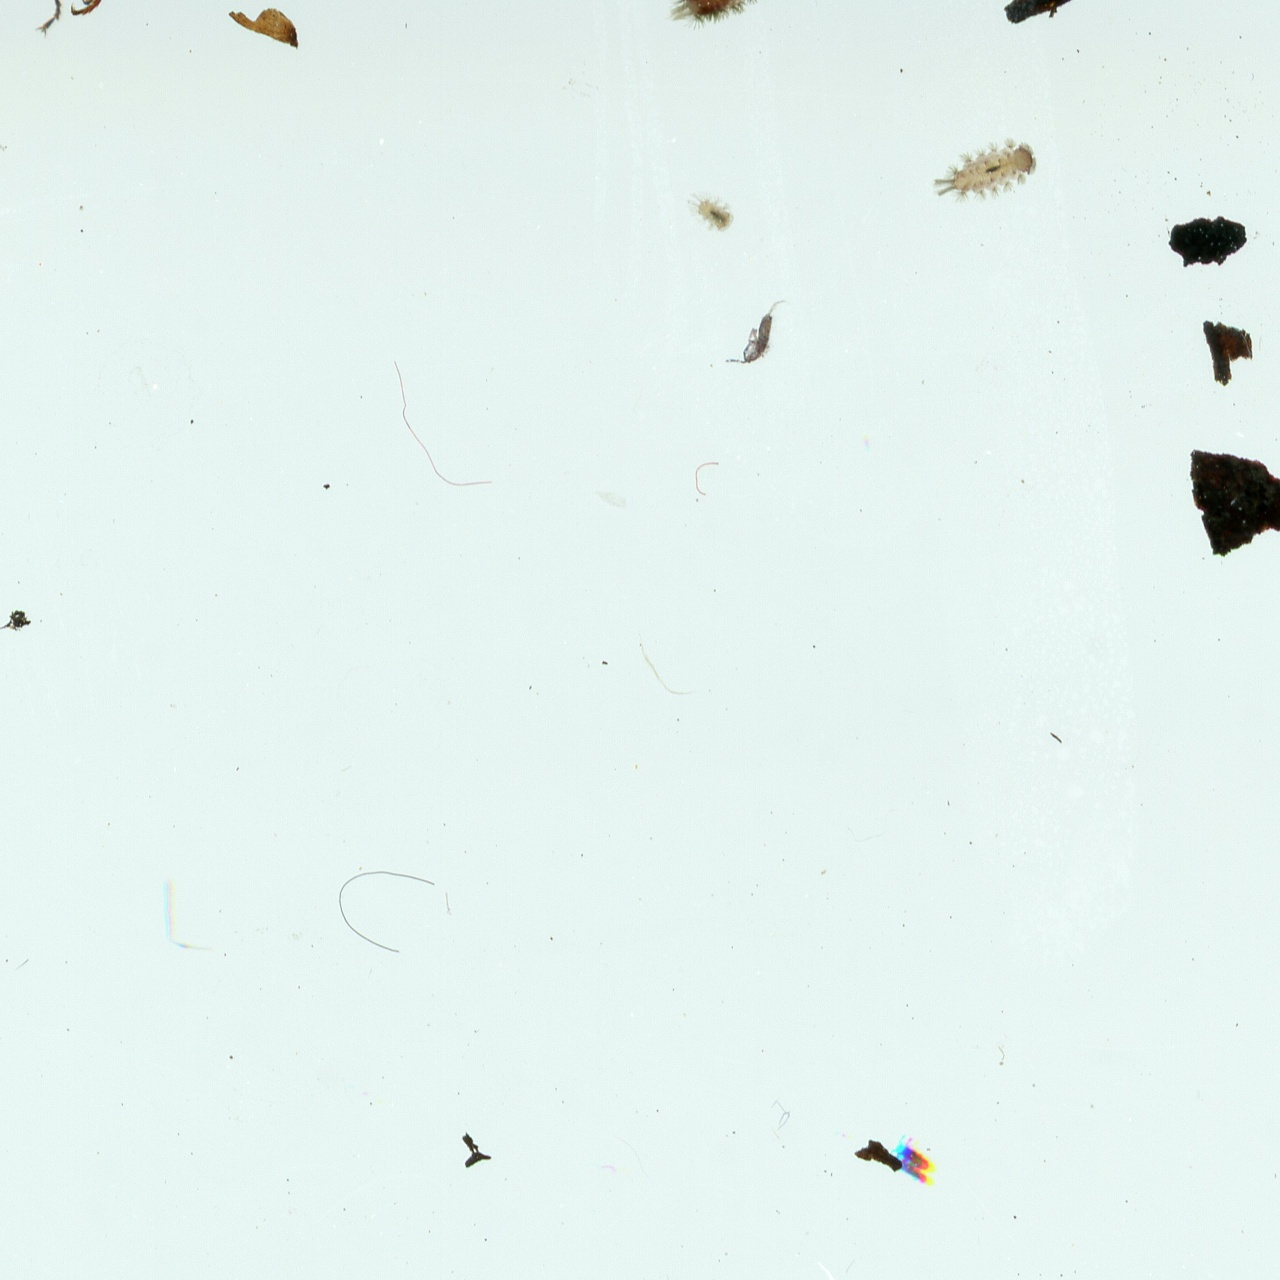arthropod: (917, 122, 1053, 226), (644, 0, 791, 56), (720, 284, 798, 379), (886, 1129, 947, 1180), (679, 189, 738, 237)
